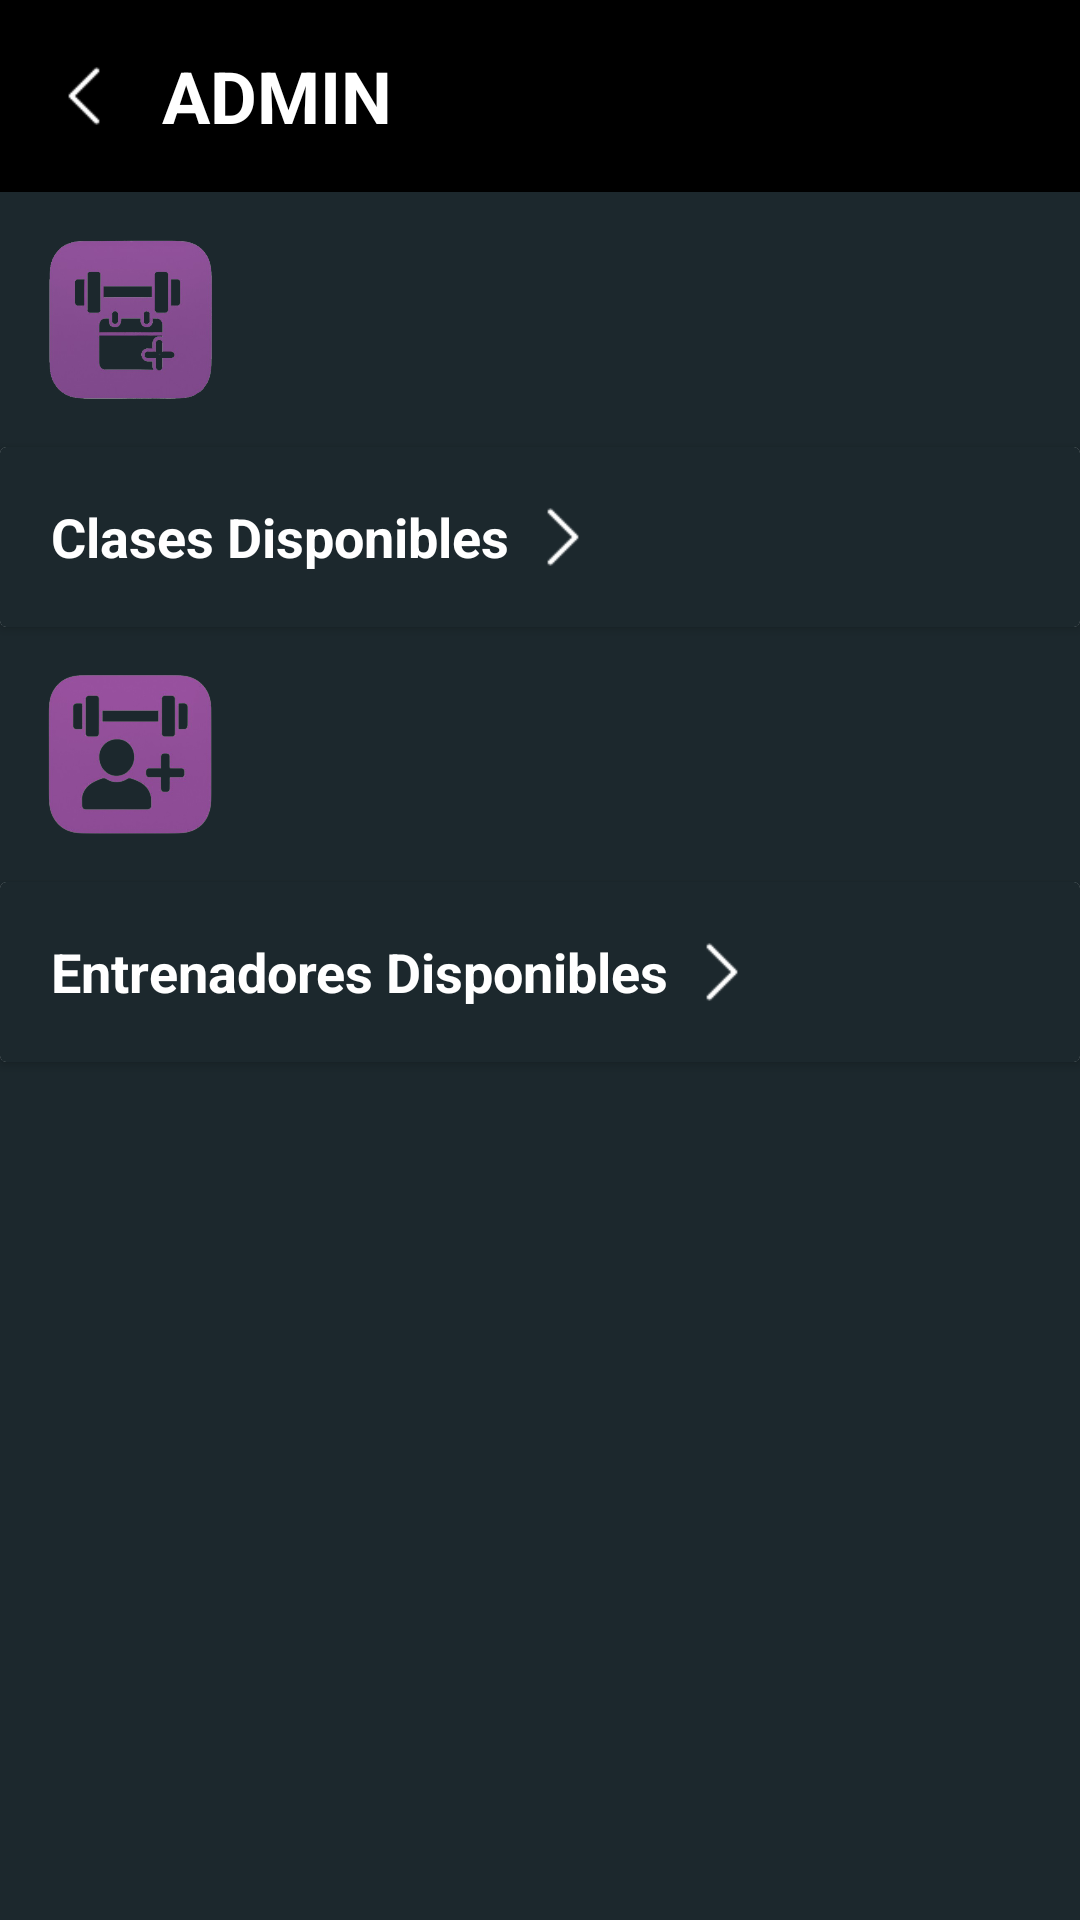

Point at icon controls on the screen. Image size 1080px×1920px, points as (x,y).
add clase: (130,320)
add entrenador: (130,754)
